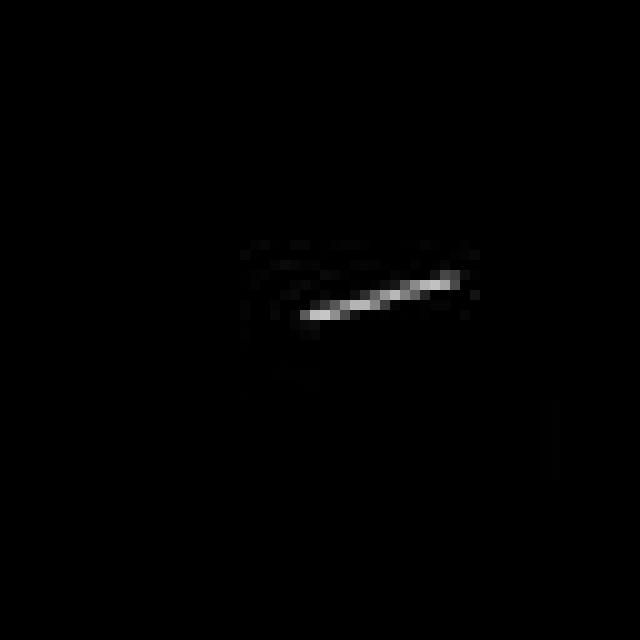1 -one-: (292, 266, 462, 328)
